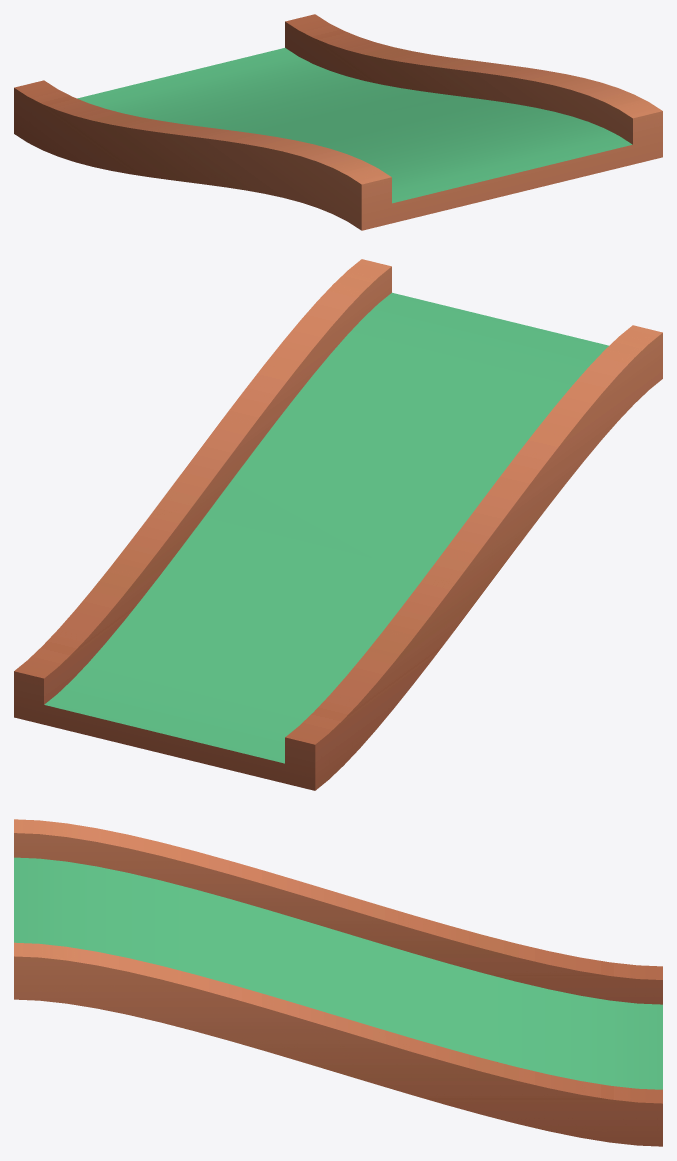
File: ramp-large.glb
3 renders of one model, top to bottom at view 1: azimuth 30°, elevation 25°; view 2: azimuth 150°, elevation 25°; view 3: azimuth 270°, elevation 25°, orthographic. The views are drawn at different scales.
Parts seen in each view (by area): view 1: ramp-large; view 2: ramp-large; view 3: ramp-large.
Boxes of the visible parts, x1,y1,x2,y2 form: ramp-large: (14, 14, 662, 230); ramp-large: (14, 259, 662, 790); ramp-large: (14, 819, 662, 1146).
Bounding box in the file's own units: 1 × 0.6467 × 2.
1 material, 1 textured.
